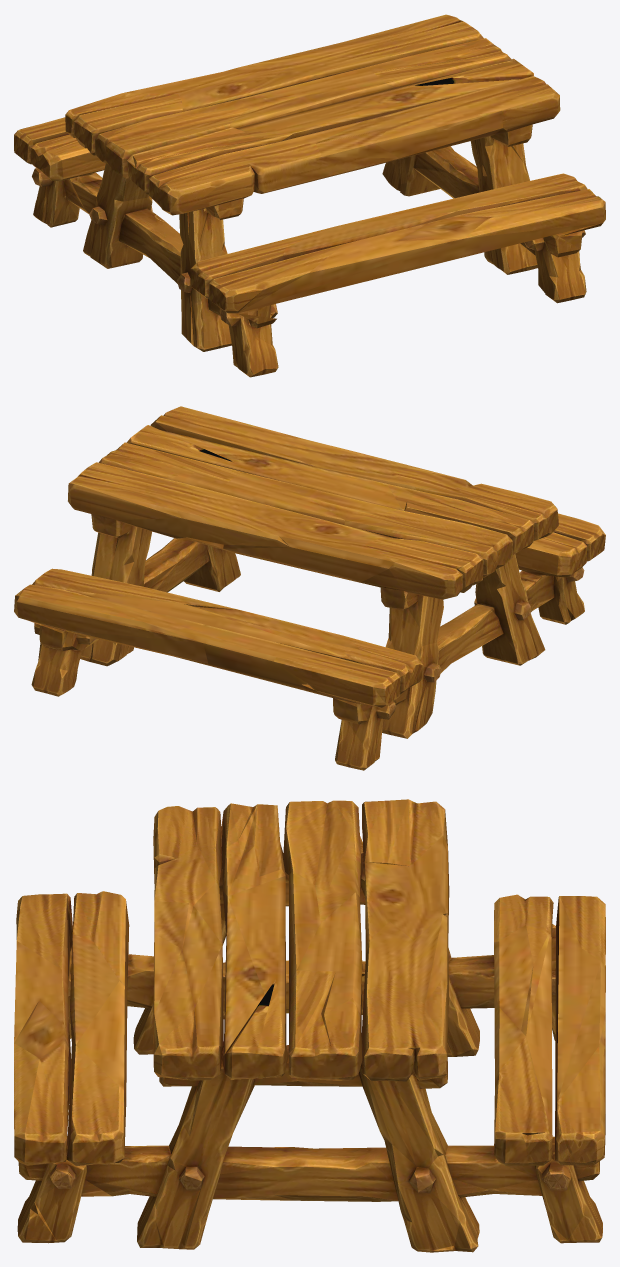
Rendered from tavern-table.hq.glb.
3 views of the same model, one above another, from view 1: azimuth 30°, elevation 25°; view 2: azimuth 150°, elevation 25°; view 3: azimuth 270°, elevation 25° (orthographic). The views are drawn at different scales.
Visible parts, largest first — view 1: output_unwrapped; view 2: output_unwrapped; view 3: output_unwrapped.
Boxes of the visible parts, x1,y1,x2,y2 form: output_unwrapped: (14, 14, 605, 377); output_unwrapped: (14, 406, 605, 770); output_unwrapped: (14, 799, 605, 1252).
Bounding box in the file's own units: 1.89 × 0.7674 × 1.87.
Materials: 1 (1 with a texture image).
